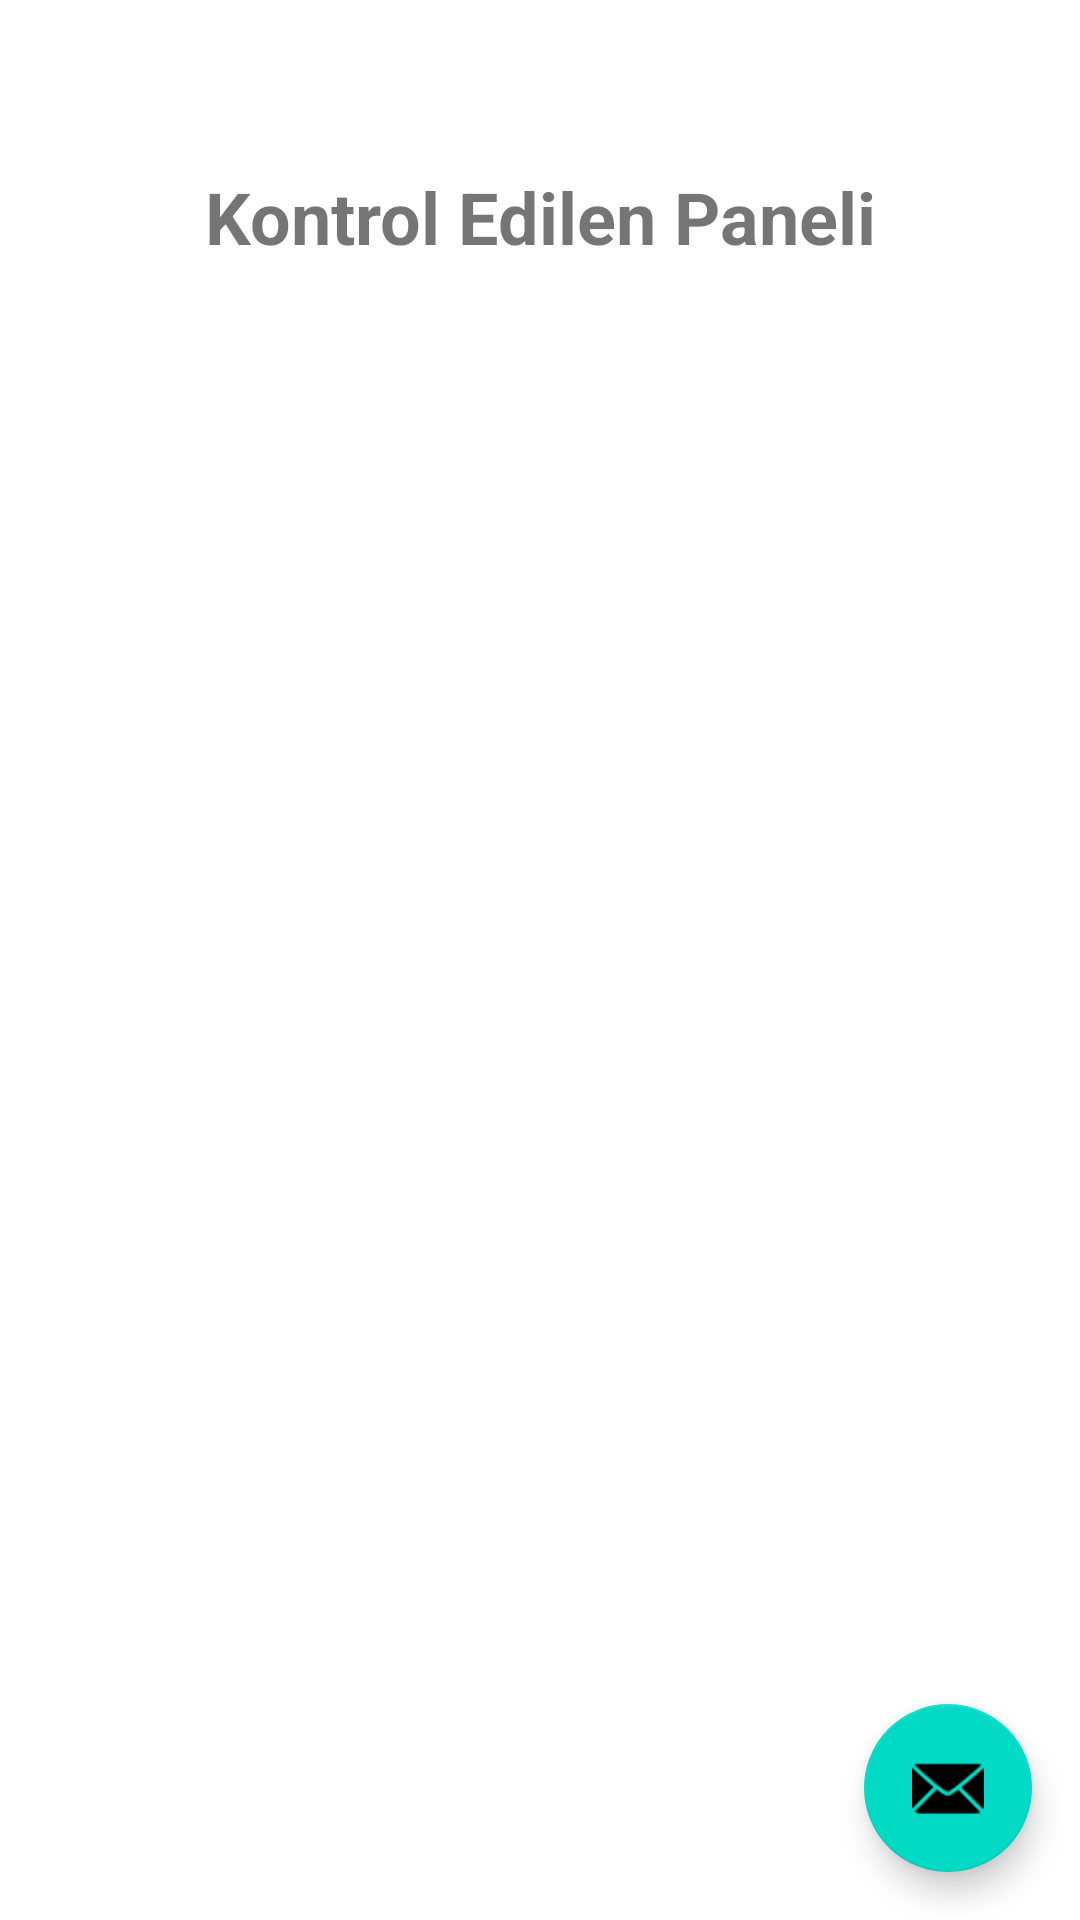

Icons on this 1080 x 1920 Android screen, each with the point to tap as (x=x, y=y):
Bildirim Gönder: (x=948, y=1788)
